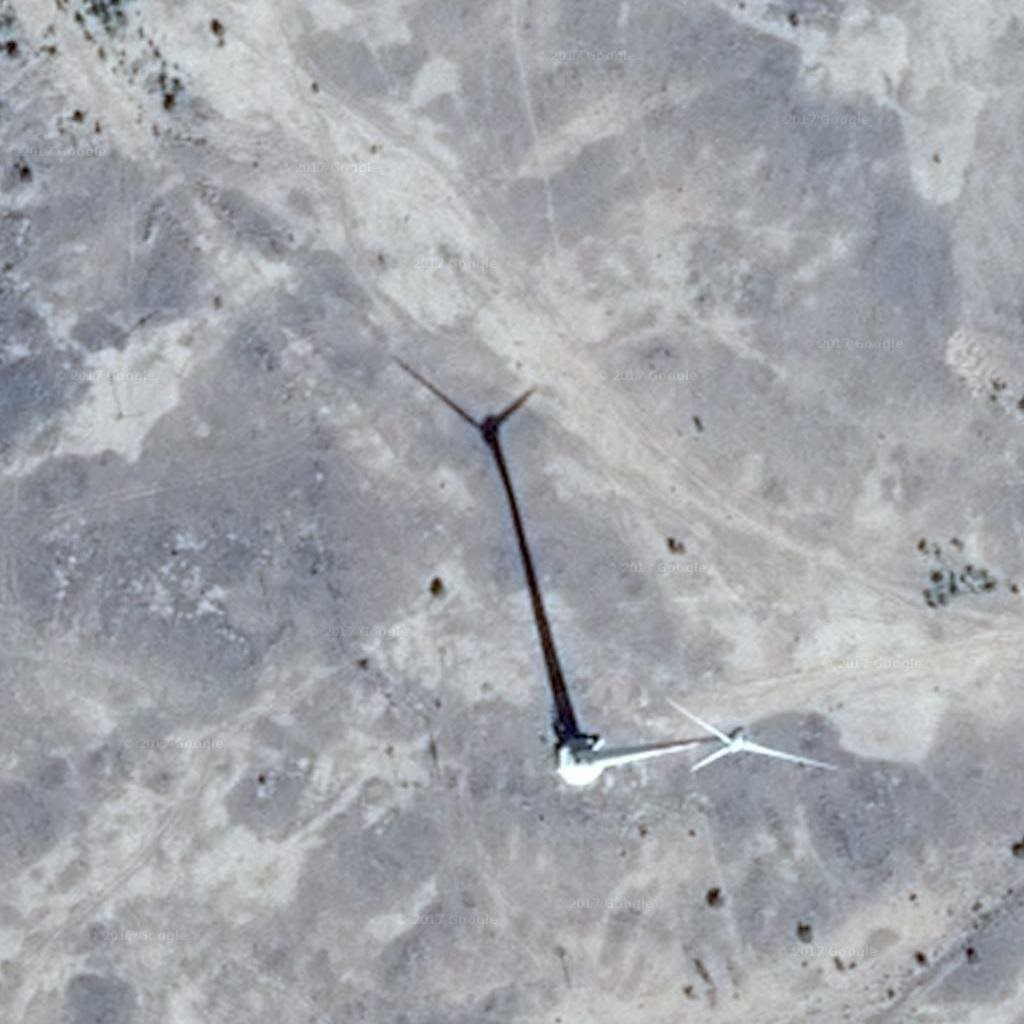Windmill: (394, 358, 581, 689)
